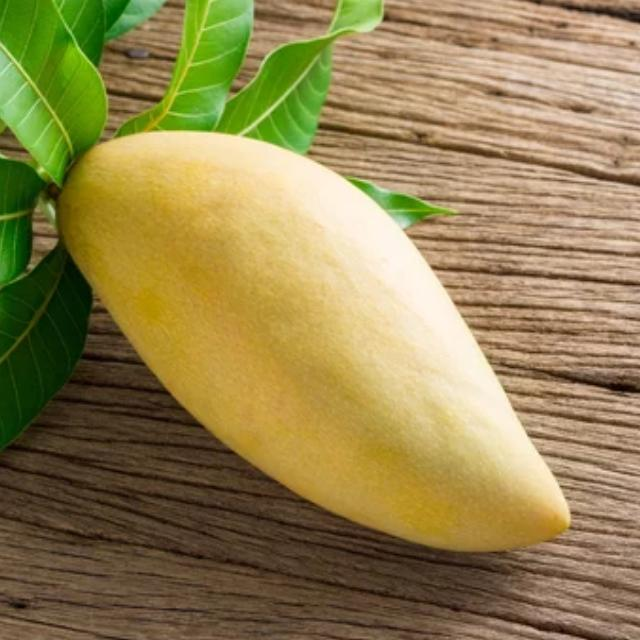mango: (54, 129, 577, 554)
